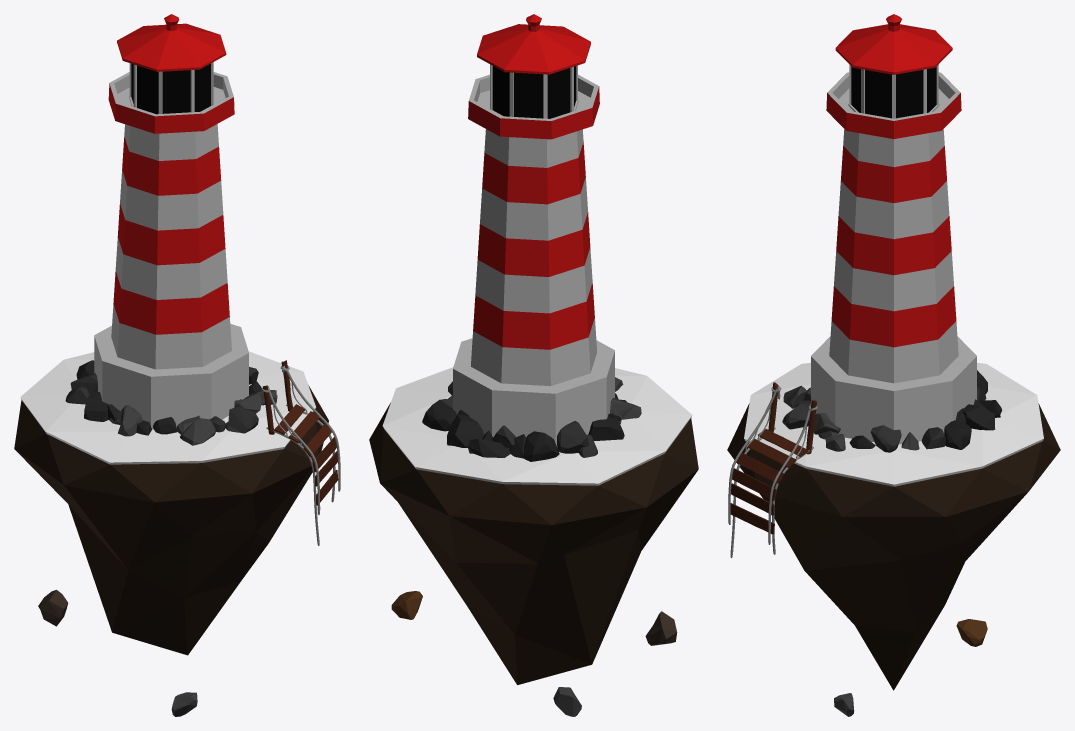
Rendered from lighthouse.fbx.
The picture shows the model from 3 angles, left to right: view 1: azimuth 30°, elevation 25°; view 2: azimuth 150°, elevation 25°; view 3: azimuth 270°, elevation 25°; orthographic projection. The views are drawn at different scales.
Parts seen in each view (by area): view 1: lighthouse, ground_05, field_02, stone_03, bridge_002, bridge_01_rope001, stone_04; view 2: lighthouse, ground_05, field_02, stone_03, stone_04, stone_02, stone_01; view 3: lighthouse, ground_05, field_02, stone_03, bridge_002, bridge_01_rope001, stone_02.
Boxes of the visible parts, left/top/right/bottom form: lighthouse: left=94, top=14, right=248, bottom=429; ground_05: left=14, top=385, right=328, bottom=655; field_02: left=20, top=351, right=316, bottom=464; stone_03: left=65, top=360, right=277, bottom=445; bridge_002: left=263, top=360, right=338, bottom=505; bridge_01_rope001: left=262, top=365, right=340, bottom=545; stone_04: left=38, top=589, right=68, bottom=626; lighthouse: left=453, top=14, right=614, bottom=447; ground_05: left=369, top=402, right=698, bottom=684; field_02: left=382, top=367, right=692, bottom=485; stone_03: left=422, top=377, right=641, bottom=461; stone_04: left=645, top=611, right=677, bottom=645; stone_02: left=391, top=591, right=422, bottom=619; stone_01: left=553, top=687, right=581, bottom=716; lighthouse: left=811, top=14, right=976, bottom=444; ground_05: left=727, top=403, right=1060, bottom=690; field_02: left=744, top=362, right=1043, bottom=486; stone_03: left=782, top=370, right=1001, bottom=452; bridge_002: left=730, top=382, right=816, bottom=534; bridge_01_rope001: left=728, top=386, right=817, bottom=557; stone_02: left=956, top=619, right=987, bottom=646.
Size of the model in its own units: 24.37 by 59.64 by 25.46.
